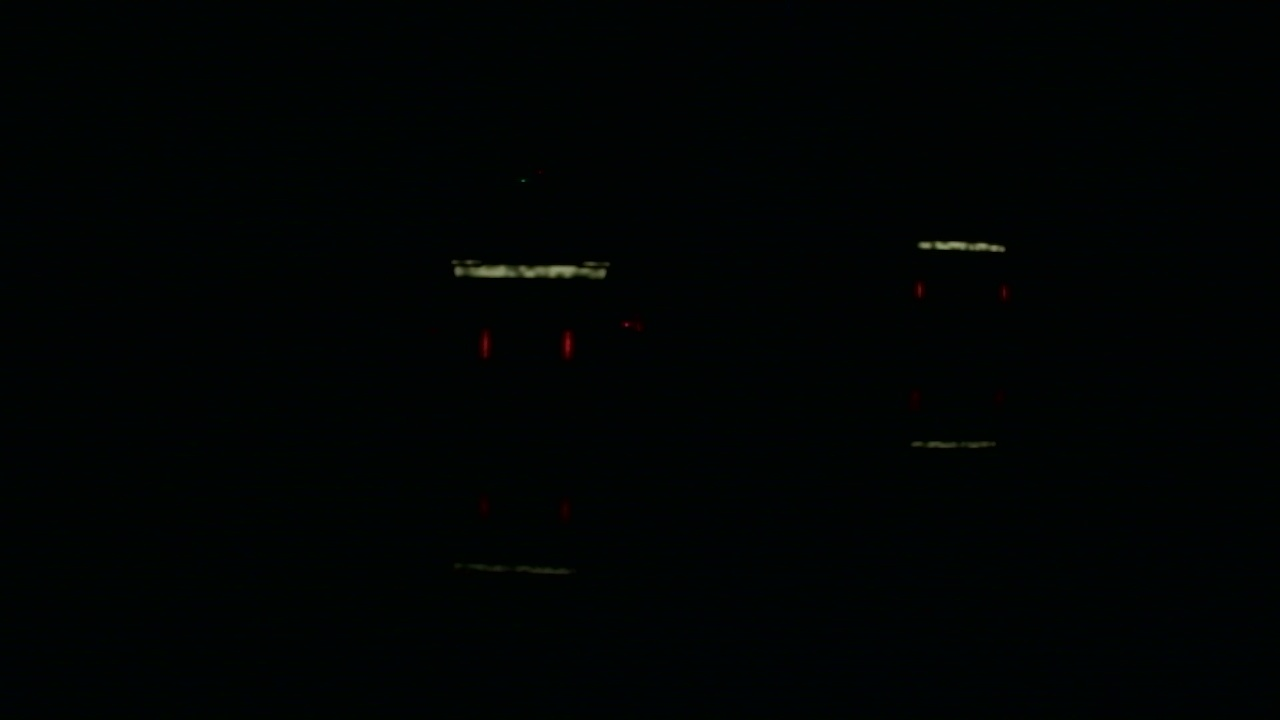lamp: (481, 326, 487, 356), (563, 329, 570, 353), (914, 280, 922, 301), (1002, 281, 1008, 300)
pair1: (481, 330, 572, 355)
pair2: (915, 282, 1009, 301)
